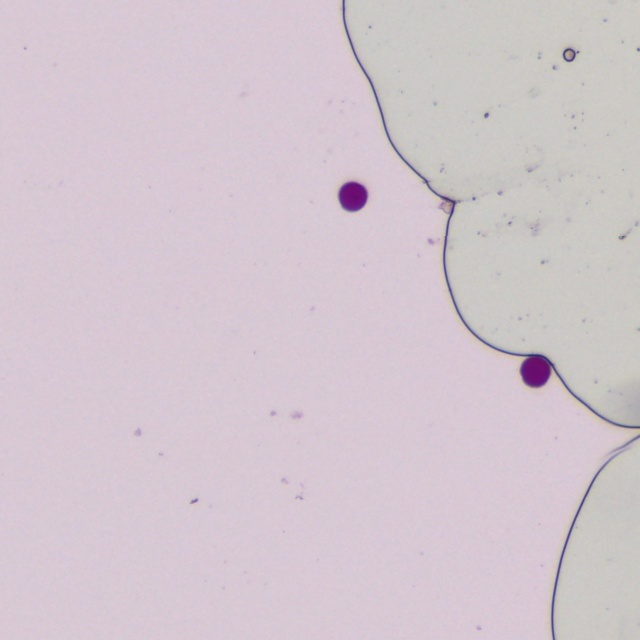viable: (521, 357, 550, 387), (339, 182, 367, 211)
